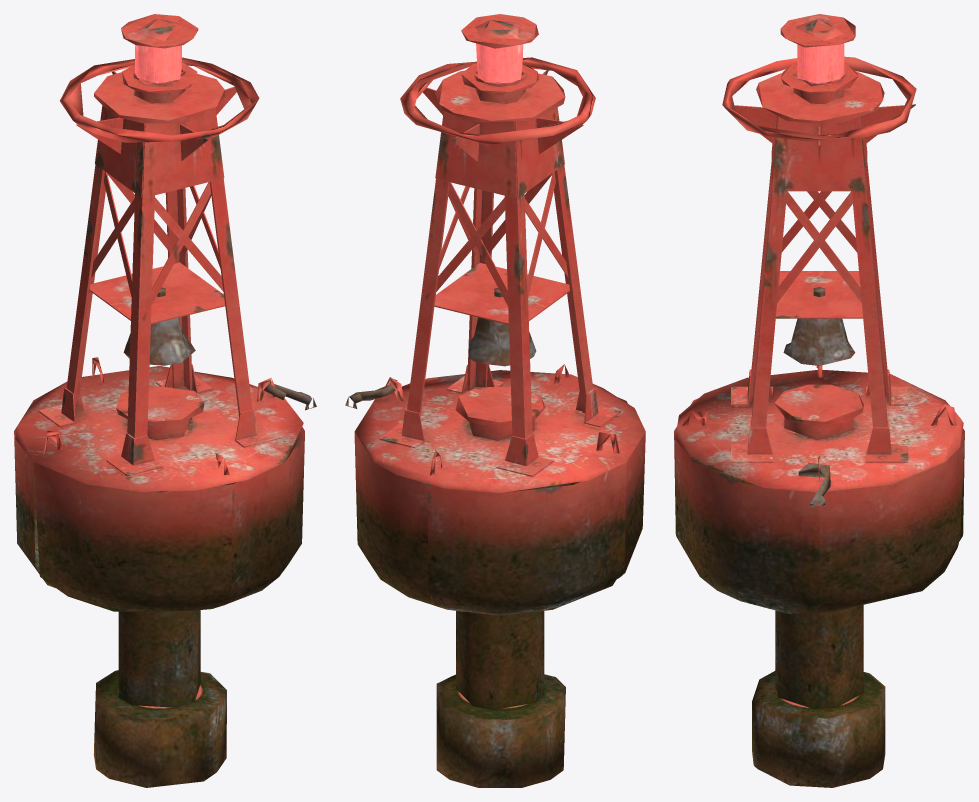
The model's file is ocean_buoy.glb.
3 views of the same model, side by side, from view 1: azimuth 30°, elevation 25°; view 2: azimuth 150°, elevation 25°; view 3: azimuth 270°, elevation 25° (orthographic).
Visible parts, largest first — view 1: ocean_buoy; view 2: ocean_buoy; view 3: ocean_buoy.
Part boxes in pixels (<box>): ocean_buoy: <box>14,14,316,787</box>; ocean_buoy: <box>345,14,645,787</box>; ocean_buoy: <box>674,14,964,787</box>.
Bounding box in the file's own units: 1.07 × 2.65 × 0.9521.
Materials: 1 (1 with a texture image).
